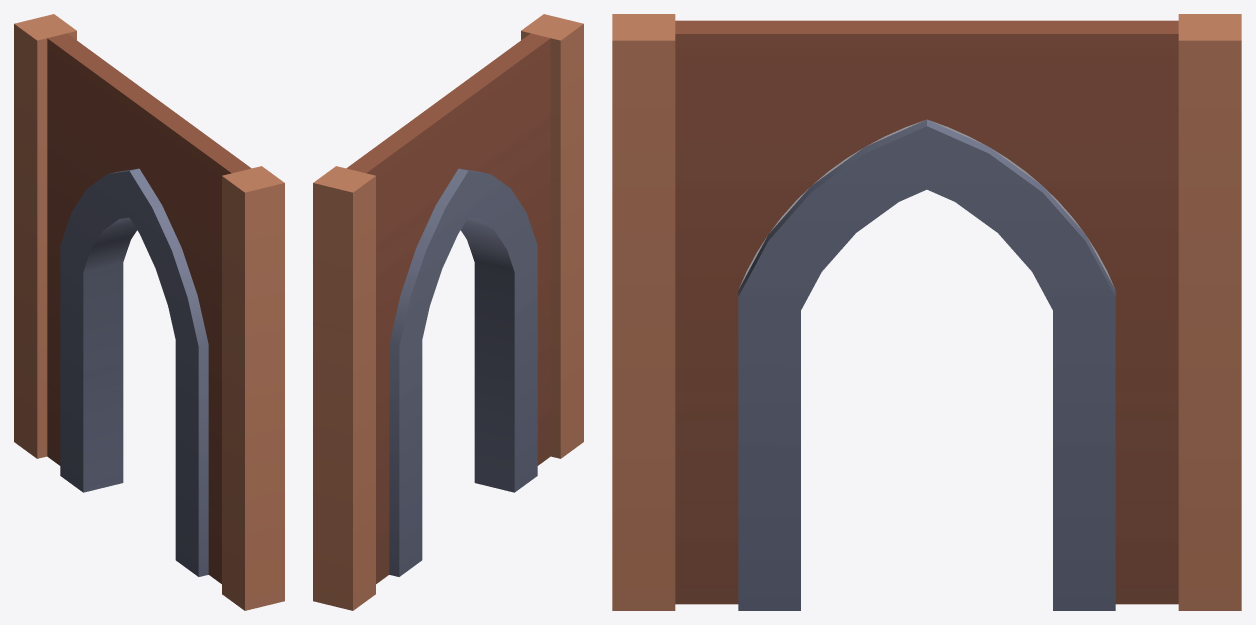
File: wall-wood-doorway-round.glb
3 views of the same model, side by side, from view 1: azimuth 30°, elevation 25°; view 2: azimuth 150°, elevation 25°; view 3: azimuth 270°, elevation 25° (orthographic). The views are drawn at different scales.
Parts seen in each view (by area): view 1: wall-wood-doorway-round; view 2: wall-wood-doorway-round; view 3: wall-wood-doorway-round.
Boxes of the visible parts, x1,y1,x2,y2 form: wall-wood-doorway-round: (14,14,284,610); wall-wood-doorway-round: (313,14,583,610); wall-wood-doorway-round: (612,14,1241,610).
Bounding box in the file's own units: 0.1 × 1 × 1.
Materials: 1 (1 with a texture image).
